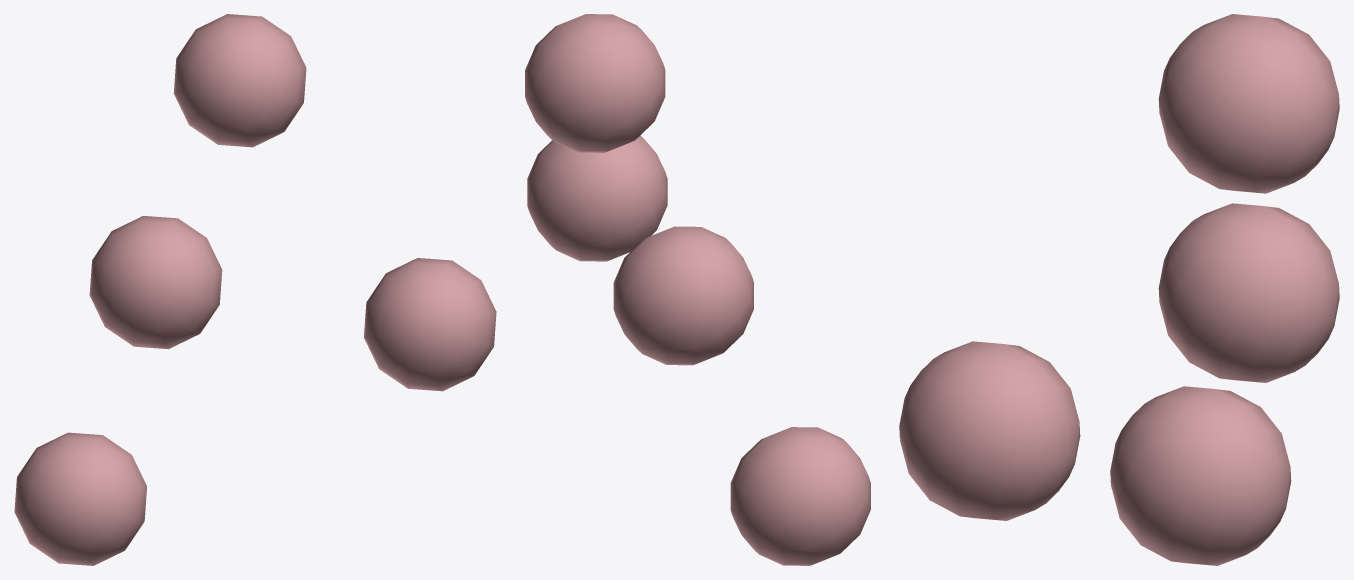
3 renders of one model, left to right at view 1: azimuth 30°, elevation 25°; view 2: azimuth 150°, elevation 25°; view 3: azimuth 270°, elevation 25°, orthographic. The views are drawn at different scales.
Parts seen in each view (by area): view 1: ZA_07e6ba0a5f413525; view 2: ZA_07e6ba0a5f413525; view 3: ZA_07e6ba0a5f413525.
Boxes of the visible parts, <box> form: ZA_07e6ba0a5f413525: <box>14,14,496,565</box>; ZA_07e6ba0a5f413525: <box>525,14,870,565</box>; ZA_07e6ba0a5f413525: <box>899,14,1339,565</box>.
Bounding box in the file's own units: 0.00855 × 0.0102 × 0.00624.
